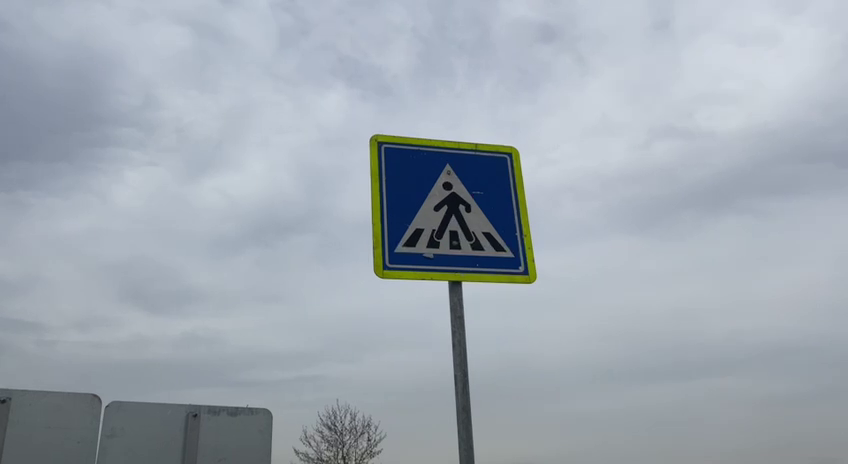pedestrianCrossing: (365, 128, 540, 288)
